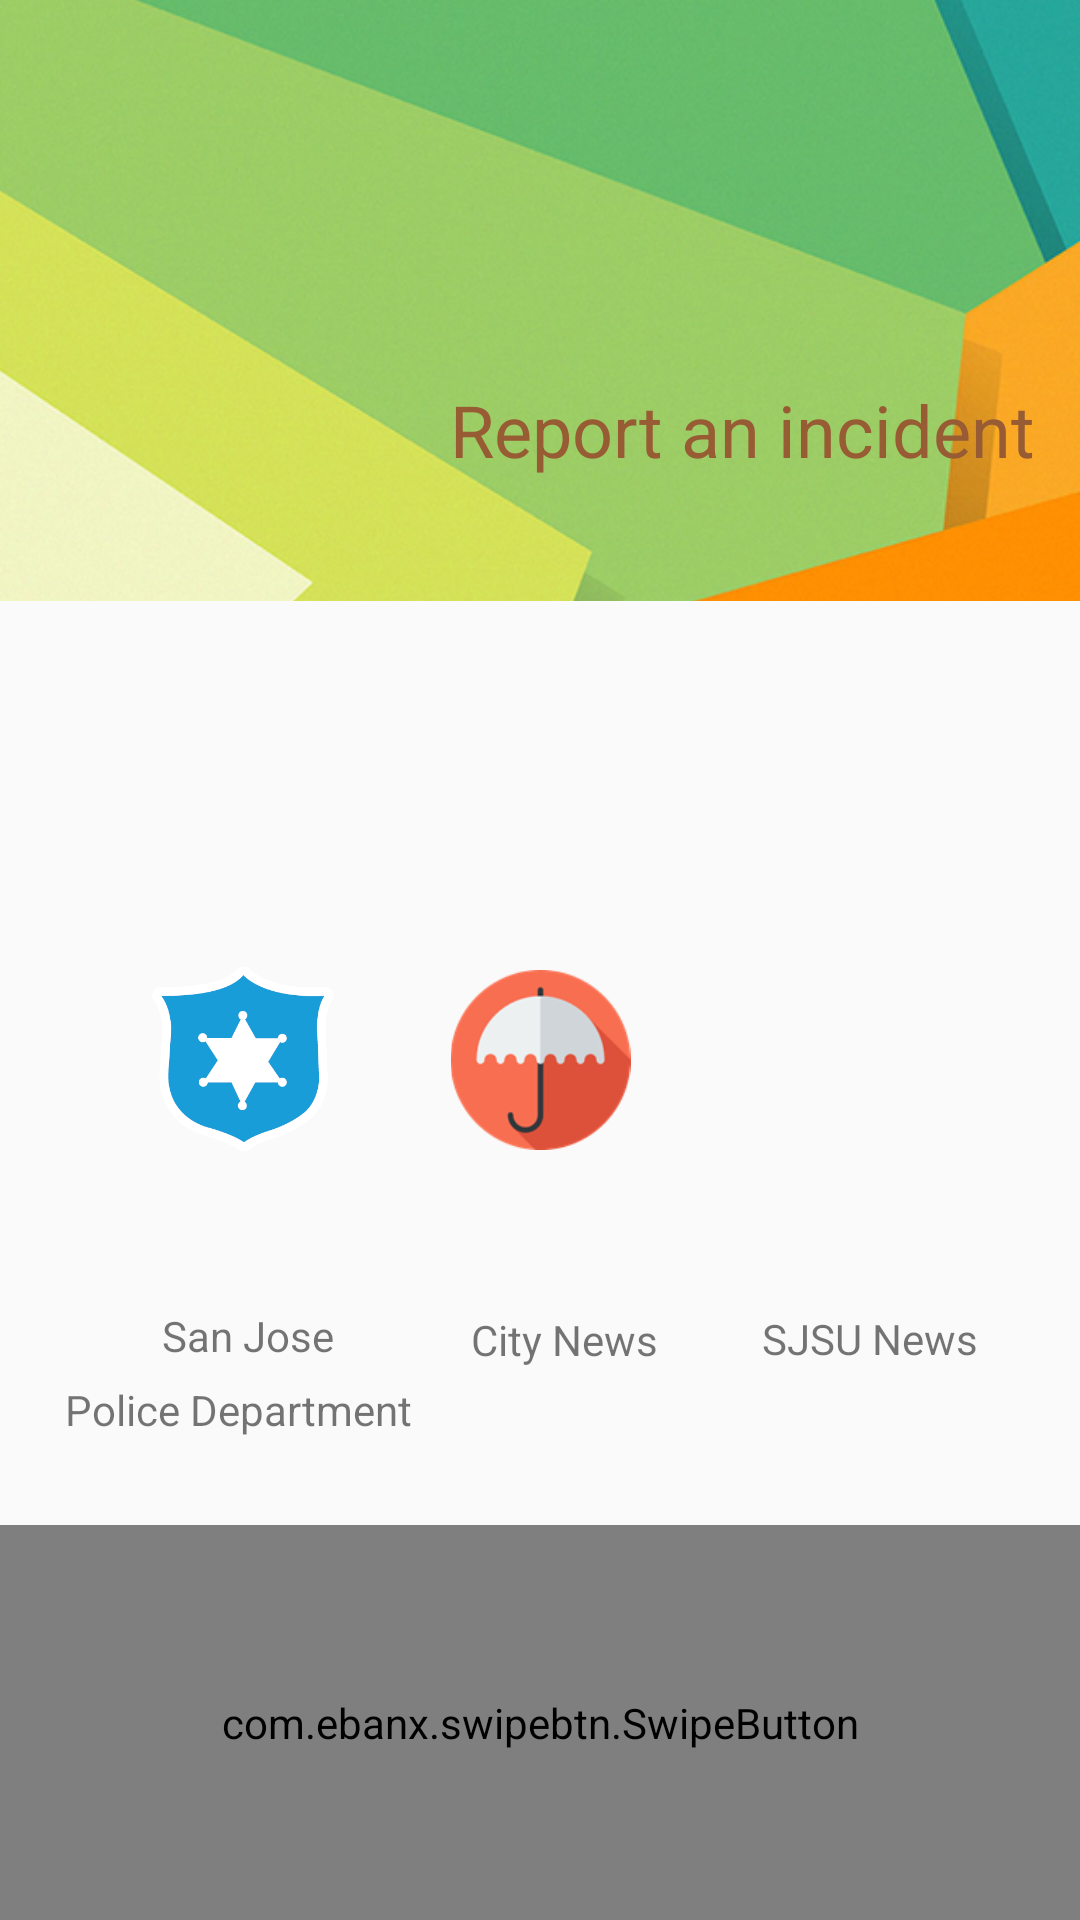

Icon click points for this 1080x1920 phone screenshot, format point (x, y):
police: point (243, 1058)
